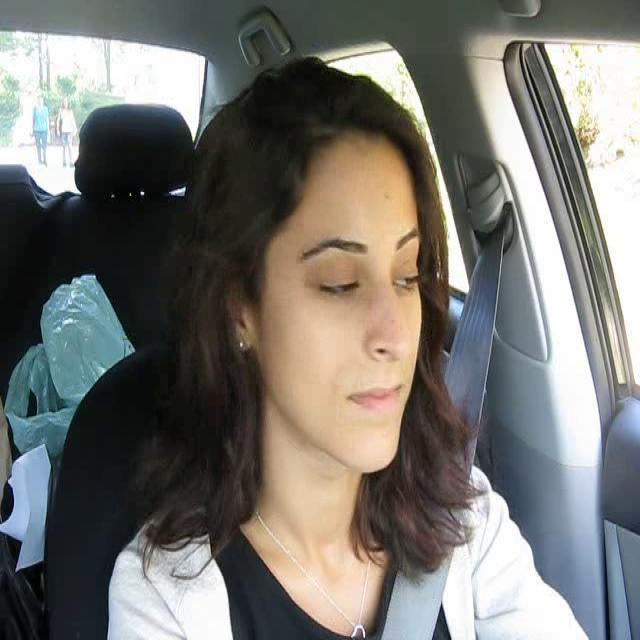close: (338, 376, 410, 421)
